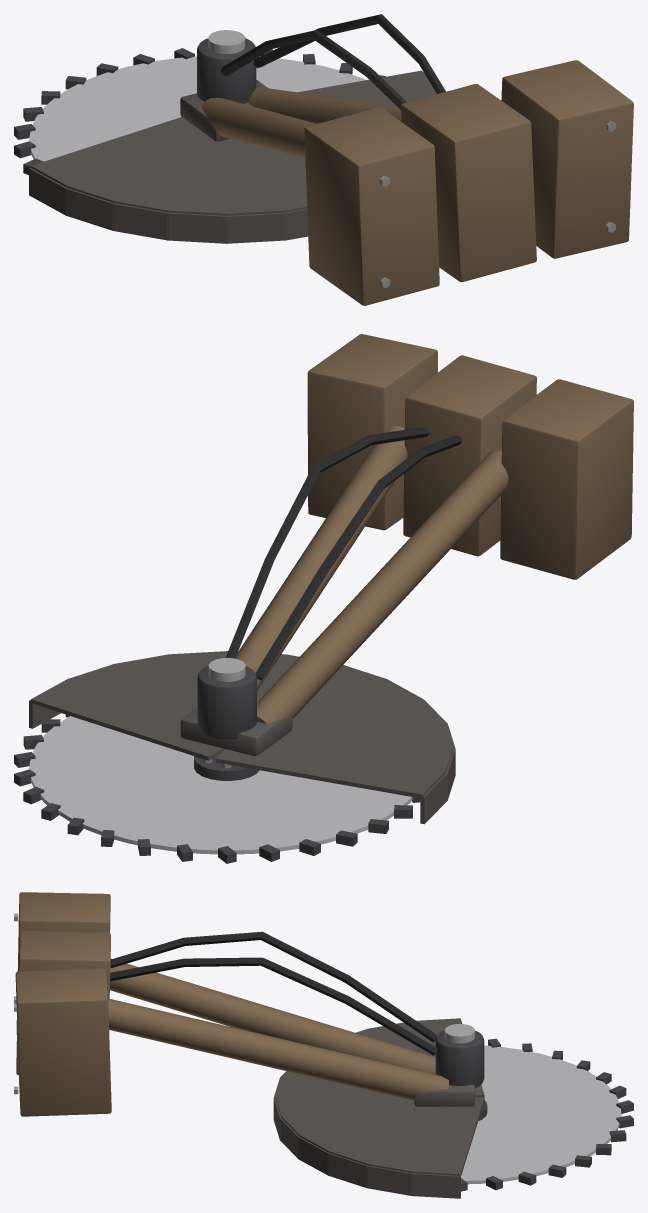
File: saw.glb
3 renders of one model, top to bottom at view 1: azimuth 30°, elevation 25°; view 2: azimuth 150°, elevation 25°; view 3: azimuth 270°, elevation 25°, orthographic. The views are drawn at different scales.
Visible parts, largest first — view 1: Part, Arm, Blade; view 2: Arm, Part, Blade; view 3: Arm, Part, Blade.
Part boxes in pixels (x1=…): Part: x1=304, y1=60, x2=633, y2=305; Arm: x1=29, y1=14, x2=445, y2=243; Blade: x1=14, y1=48, x2=385, y2=174; Arm: x1=29, y1=425, x2=508, y2=824; Part: x1=307, y1=334, x2=633, y2=579; Blade: x1=14, y1=714, x2=420, y2=863; Arm: x1=108, y1=931, x2=484, y2=1198; Part: x1=14, y1=892, x2=111, y2=1116; Blade: x1=461, y1=1038, x2=633, y2=1191.
Bounding box in the file's own units: 1.22 × 0.6367 × 2.03.
